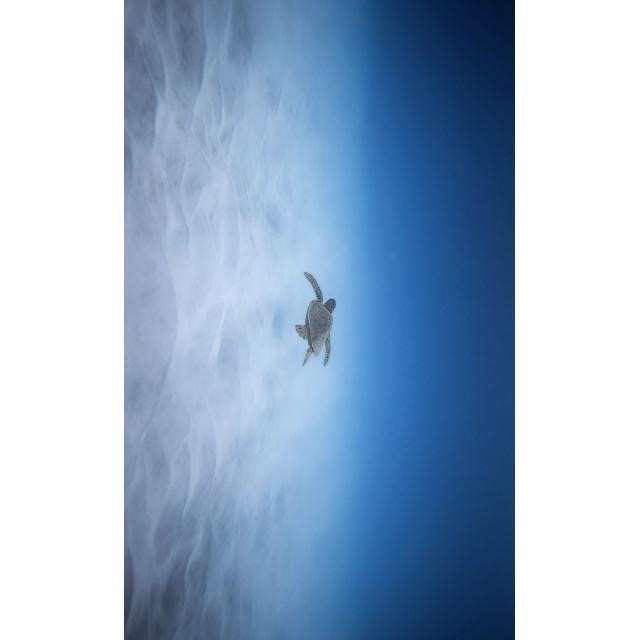turtle: (294, 271, 338, 370)
